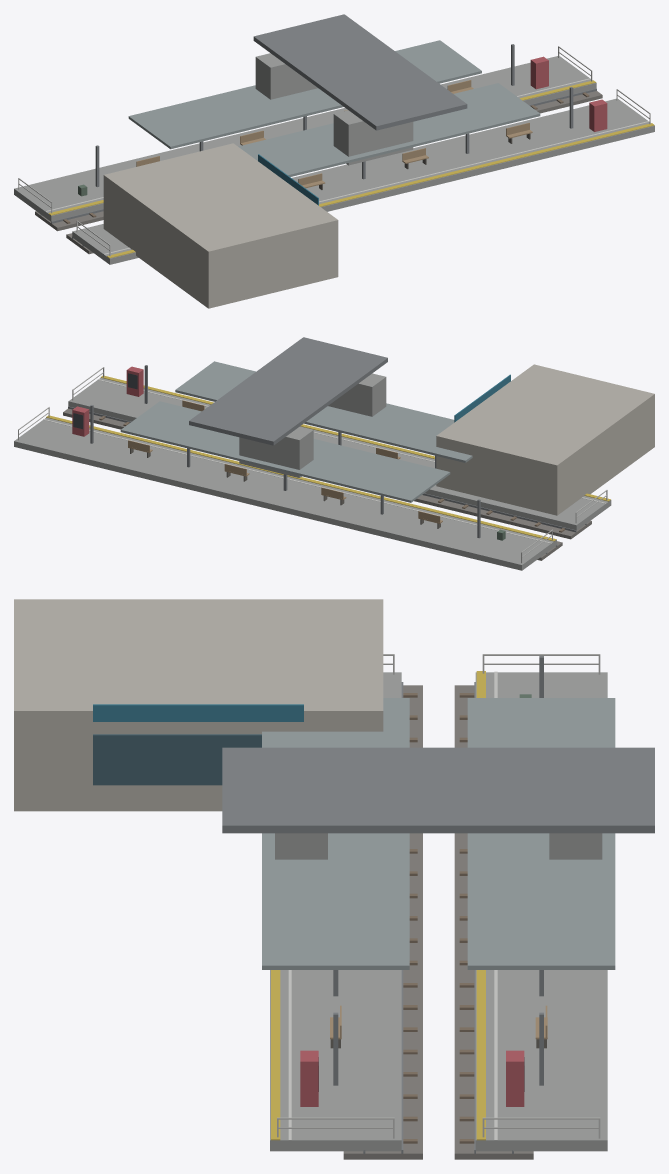
The model's file is station_side_platform.glb.
3 renders of one model, top to bottom at view 1: azimuth 30°, elevation 25°; view 2: azimuth 150°, elevation 25°; view 3: azimuth 270°, elevation 25°, orthographic. The views are drawn at different scales.
Parts seen in each view (by area): view 1: station_main_building, platform_1, footbridge_deck, canopy_roof_0, platform_0, canopy_roof_1, footbridge_stair_5.2, footbridge_stair_-5.2, tactile_strip_1, trackbed_0, white_line_1_1, vending_1_body (+3 smaller); view 2: station_main_building, platform_0, footbridge_deck, canopy_roof_0, canopy_roof_1, platform_1, footbridge_stair_-5.2, trackbed_1, tactile_strip_0, footbridge_stair_5.2, tactile_strip_1, white_line_0_0 (+5 smaller); view 3: station_main_building, footbridge_deck, canopy_roof_0, platform_0, canopy_roof_1, platform_1, station_glazing, trackbed_0, trackbed_1, station_sign, tactile_strip_0, tactile_strip_1 (+4 smaller).
Boxes of the visible parts, bbox=[...] form: station_main_building: bbox=[103, 143, 338, 308]; platform_1: bbox=[72, 98, 654, 264]; footbridge_deck: bbox=[253, 14, 467, 130]; canopy_roof_0: bbox=[128, 40, 481, 149]; platform_0: bbox=[14, 56, 596, 221]; canopy_roof_1: bbox=[238, 83, 540, 176]; footbridge_stair_5.2: bbox=[333, 110, 413, 165]; footbridge_stair_-5.2: bbox=[255, 53, 317, 99]; tactile_strip_1: bbox=[107, 123, 654, 258]; trackbed_0: bbox=[35, 91, 602, 231]; white_line_1_1: bbox=[104, 121, 649, 254]; vending_1_body: bbox=[589, 99, 607, 131]; station_main_building: bbox=[436, 364, 654, 515]; platform_0: bbox=[14, 417, 556, 570]; footbridge_deck: bbox=[189, 337, 387, 445]; canopy_roof_0: bbox=[120, 401, 450, 502]; canopy_roof_1: bbox=[175, 361, 472, 462]; platform_1: bbox=[68, 378, 611, 530]; footbridge_stair_-5.2: bbox=[239, 426, 313, 477]; trackbed_1: bbox=[63, 408, 591, 539]; tactile_strip_0: bbox=[46, 415, 556, 541]; footbridge_stair_5.2: bbox=[328, 373, 386, 416]; tactile_strip_1: bbox=[100, 375, 610, 501]; white_line_0_0: bbox=[43, 419, 551, 543]; station_main_building: bbox=[14, 599, 383, 811]; footbridge_deck: bbox=[222, 747, 654, 833]; canopy_roof_0: bbox=[467, 698, 615, 969]; platform_0: bbox=[475, 672, 607, 1151]; canopy_roof_1: bbox=[262, 698, 409, 969]; platform_1: bbox=[270, 672, 401, 1151]; station_glazing: bbox=[93, 734, 261, 785]; trackbed_0: bbox=[454, 685, 533, 1159]; trackbed_1: bbox=[343, 685, 422, 1159]; station_sign: bbox=[93, 704, 303, 721]; tactile_strip_0: bbox=[476, 671, 485, 1140]; tactile_strip_1: bbox=[271, 970, 280, 1140].
Bounding box in the file's own units: 42 × 6.73 × 24.3.
